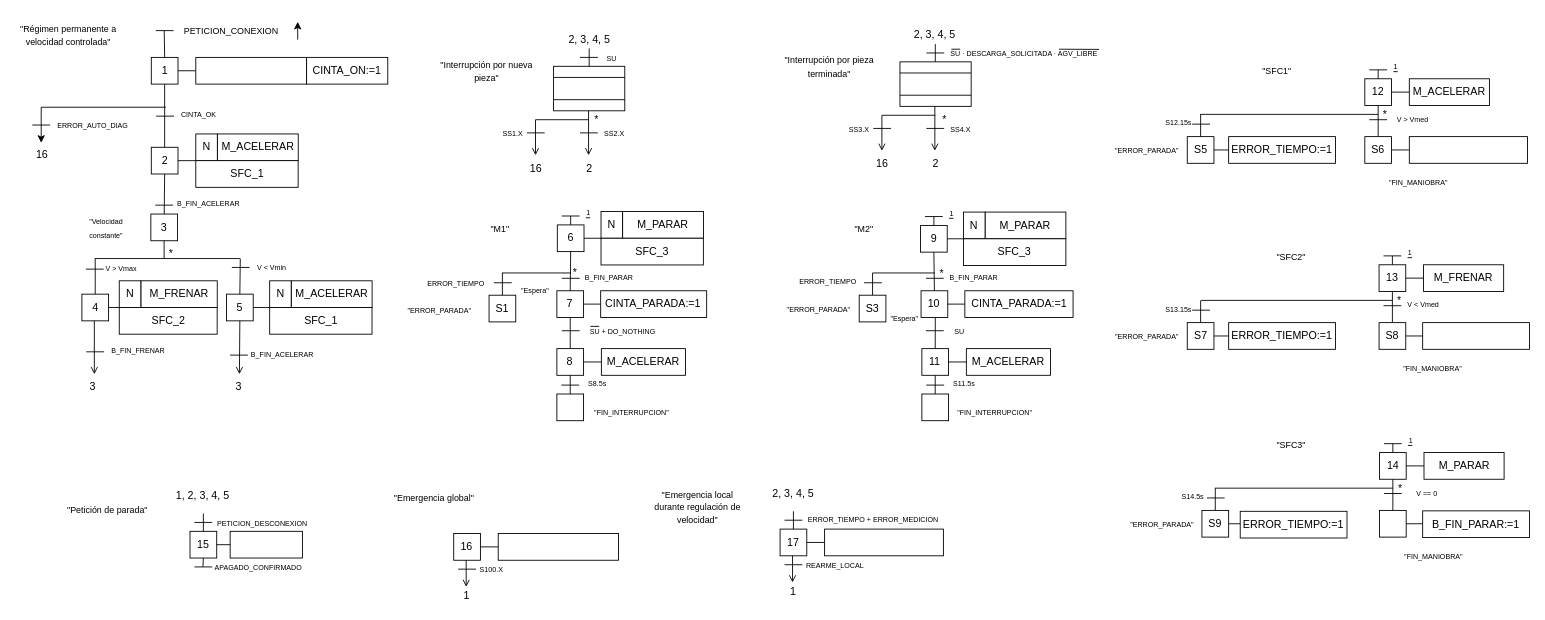
Some shapes in this 1545 by 620 pixel diagram are drawn without their labels. Here are the shapes that lost their labels. From the top down, the centre of each, then its label:
(251,70): AUTO_DIAG_CINTA
(589,88): M1
(935,83): M2
(1468,149): B_FIN_ACELERAR:=1
(1475,335): B_FIN_FRENAR:=1
(570,407): S2
(935,407): S4
(883,542): PARADA_SINCRONA
(1392,523): S10
(265,544): CINTA_OFF
(558,546): PARADA_ASINCRONA
